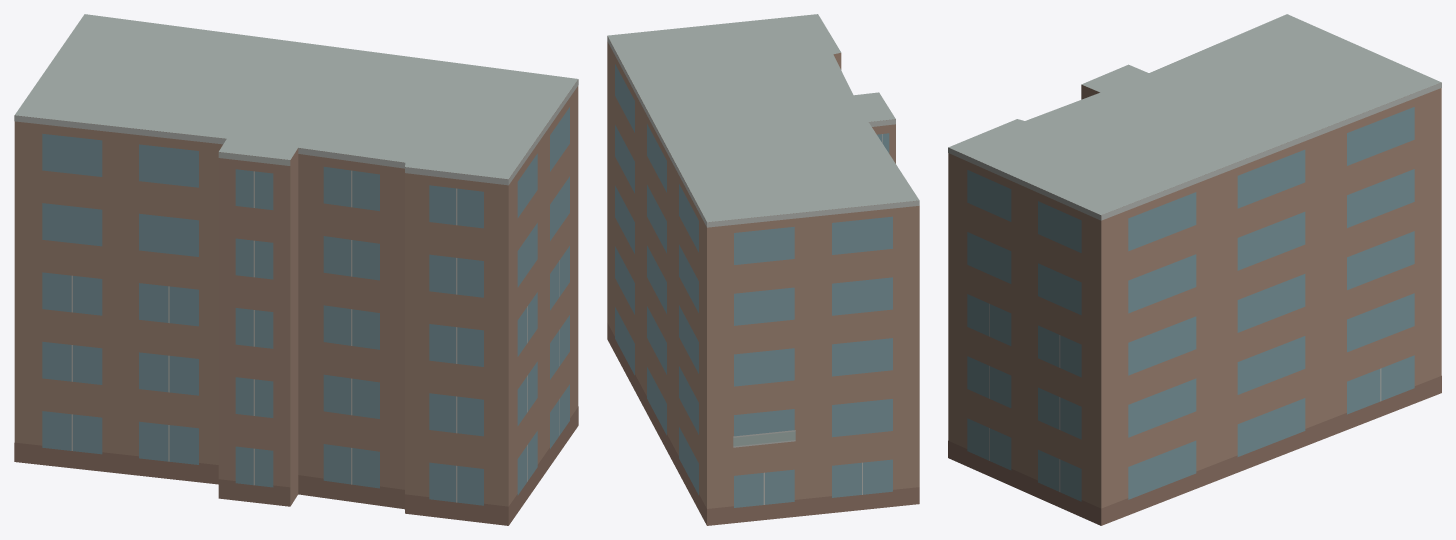
Rendered from survey-upis-32587798.glb.
3 views of the same model, side by side, from view 1: azimuth 30°, elevation 25°; view 2: azimuth 150°, elevation 25°; view 3: azimuth 270°, elevation 25° (orthographic). The views are drawn at different scales.
Visible parts, largest first — view 1: survey-upis-32587798.tmp; view 2: survey-upis-32587798.tmp; view 3: survey-upis-32587798.tmp.
Part boxes in pixels (left/top/right/bottom): survey-upis-32587798.tmp: left=14, top=14, right=578, bottom=525; survey-upis-32587798.tmp: left=607, top=14, right=919, bottom=525; survey-upis-32587798.tmp: left=948, top=14, right=1441, bottom=525.
Size of the model in its own units: 19.32 by 13.9 by 20.02.
